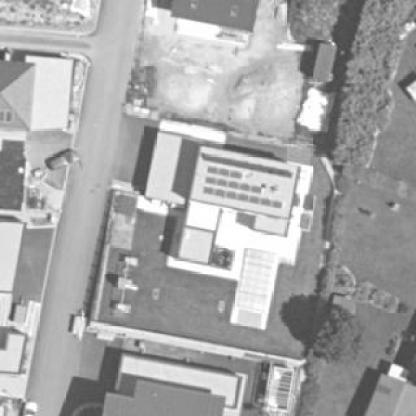solar-pv-panel: (202, 165, 283, 209), (201, 153, 293, 179), (0, 111, 11, 122)
